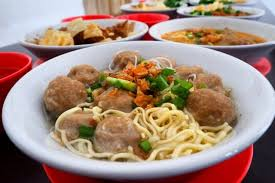bakso: (46, 48, 241, 165)
